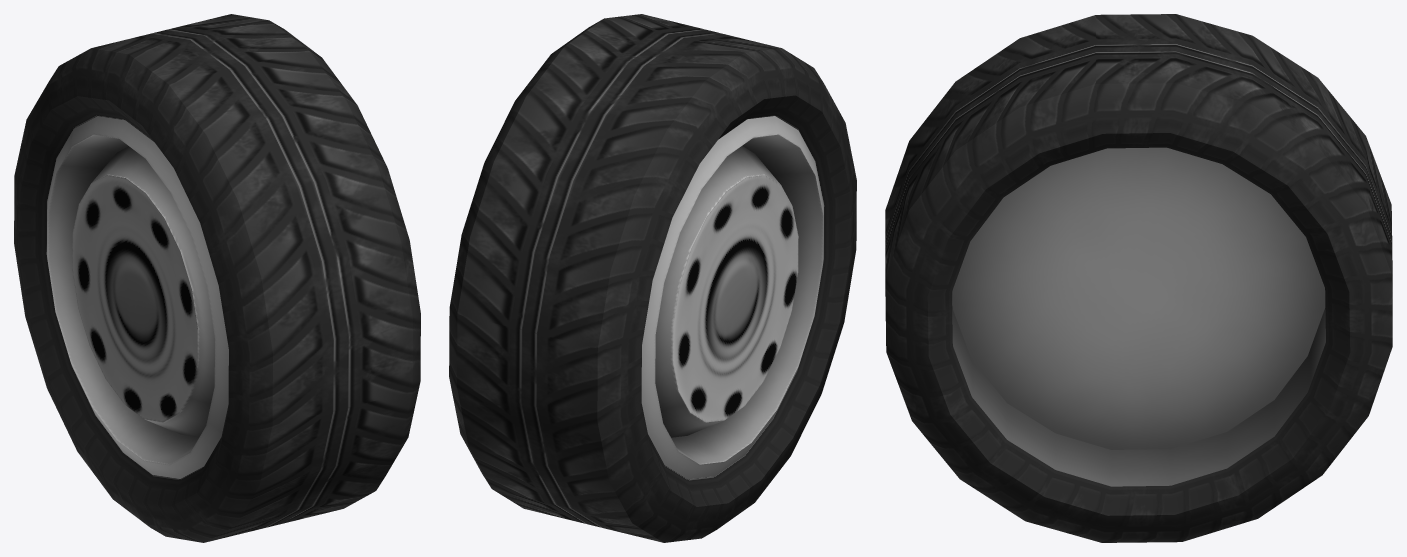
The model's file is VAN_2_Wheel_FL.fbx.
3 renders of one model, left to right at view 1: azimuth 30°, elevation 25°; view 2: azimuth 150°, elevation 25°; view 3: azimuth 270°, elevation 25°, orthographic.
Parts seen in each view (by area): view 1: VAN_2_Wheel_FL; view 2: VAN_2_Wheel_FL; view 3: VAN_2_Wheel_FL.
Boxes of the visible parts, x1,y1,x2,y2 form: VAN_2_Wheel_FL: [14, 14, 420, 542]; VAN_2_Wheel_FL: [449, 14, 856, 542]; VAN_2_Wheel_FL: [885, 14, 1392, 542].
Bounding box in the file's own units: 316 × 738 × 738.
